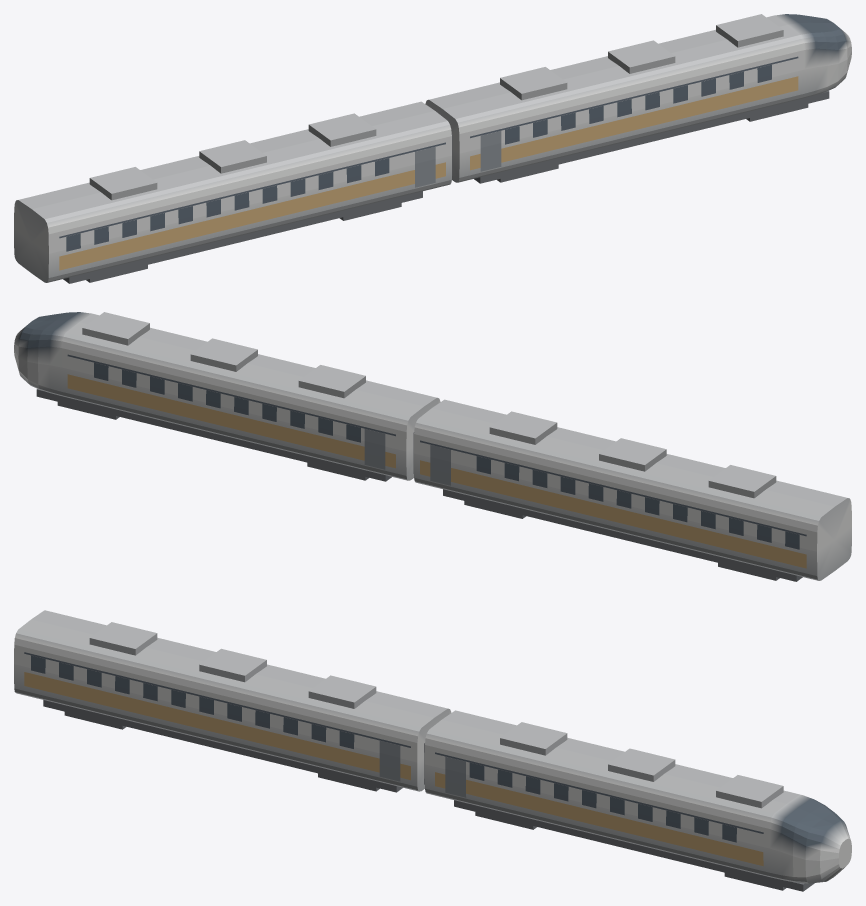
Rendered from 05_TRA_classic_3x2-04.glb.
The picture shows the model from 3 angles, top to bottom: view 1: azimuth 30°, elevation 25°; view 2: azimuth 150°, elevation 25°; view 3: azimuth 330°, elevation 25°; orthographic projection.
Bounding box in the file's own units: 39.16 × 3.77 × 2.96.
